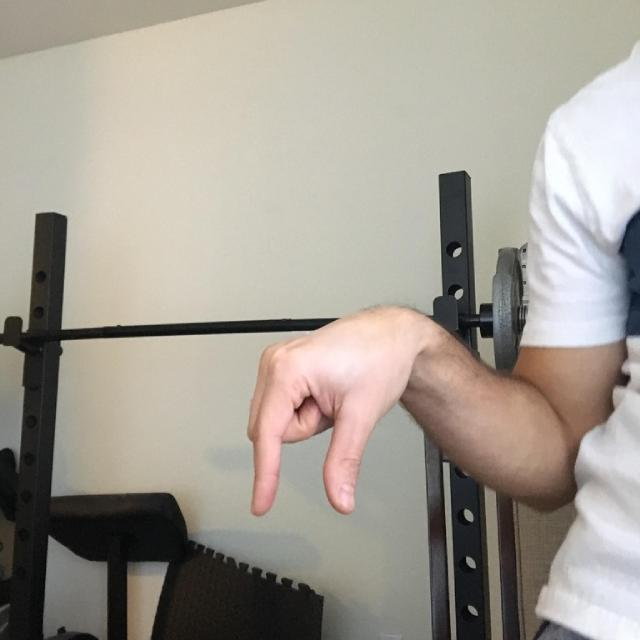Q: (210, 252, 477, 542)
